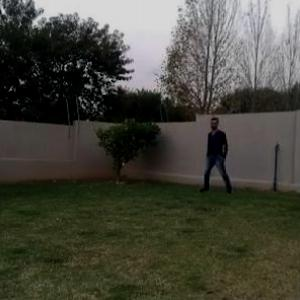follow: (205, 110, 226, 195)
